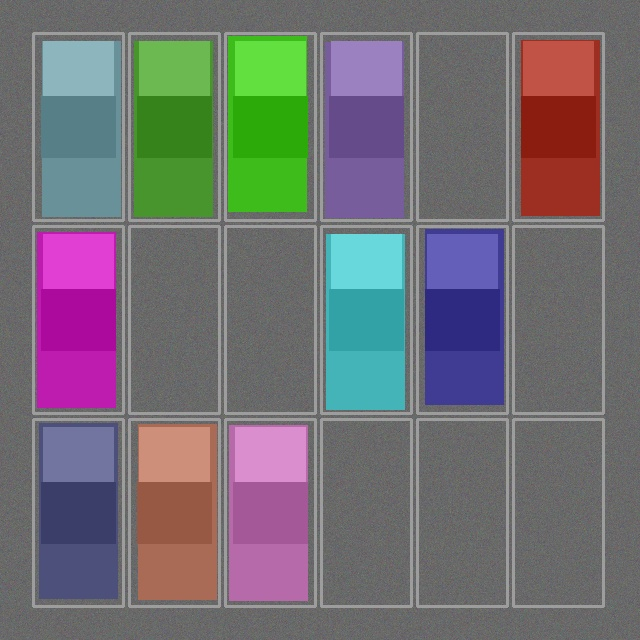space-empty: (419, 35, 505, 218), (131, 228, 217, 411), (227, 228, 313, 411), (515, 228, 601, 411), (323, 421, 409, 604), (419, 421, 505, 604), (515, 421, 601, 604)
space-occupied: (35, 35, 121, 218), (131, 35, 217, 218), (227, 35, 313, 218), (323, 35, 409, 218), (515, 35, 601, 218), (35, 228, 121, 411), (323, 228, 409, 411), (419, 228, 505, 411), (35, 421, 121, 604), (131, 421, 217, 604), (227, 421, 313, 604)
